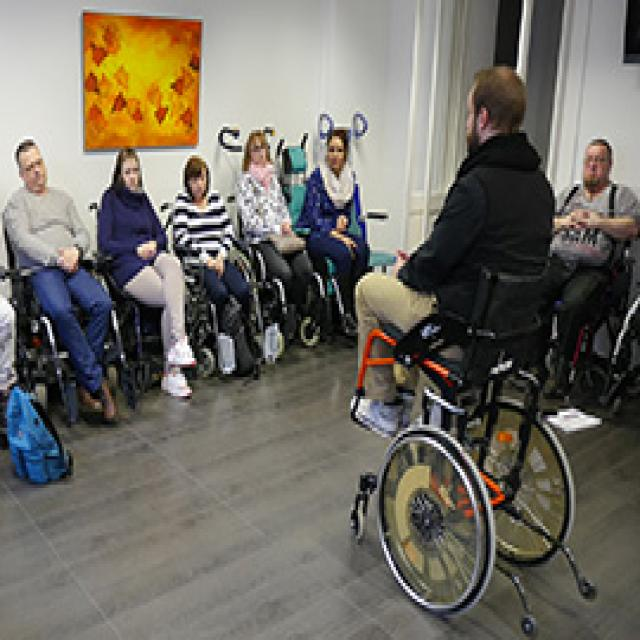wheelchairs: (345, 238, 581, 629), (6, 249, 133, 437), (103, 236, 200, 421), (172, 224, 259, 413), (242, 215, 330, 370)
